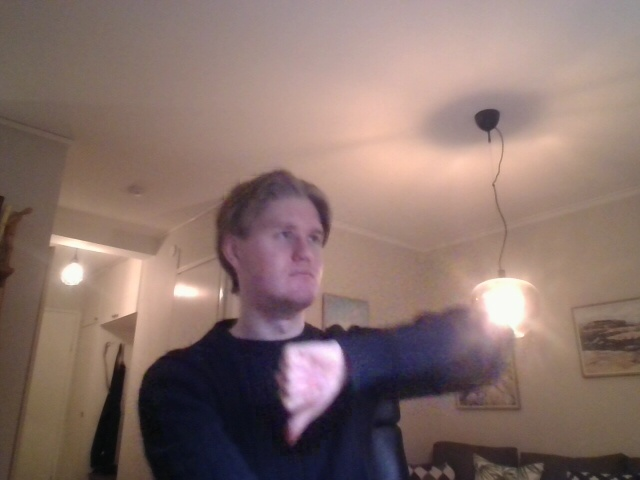ThumbsDown: (273, 340, 346, 445)
